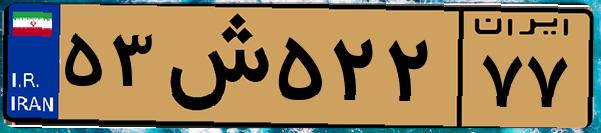2: (385, 28, 445, 110), (330, 28, 385, 110)
3: (110, 28, 158, 98)
5: (270, 28, 330, 110), (57, 26, 110, 100)
7: (475, 38, 525, 113), (525, 38, 570, 115)
ش: (158, 12, 270, 120)
